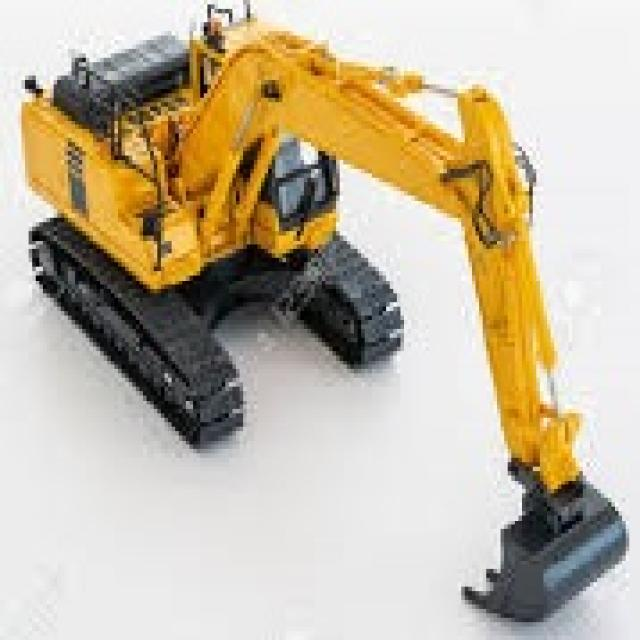excavator: (1, 0, 627, 620)
